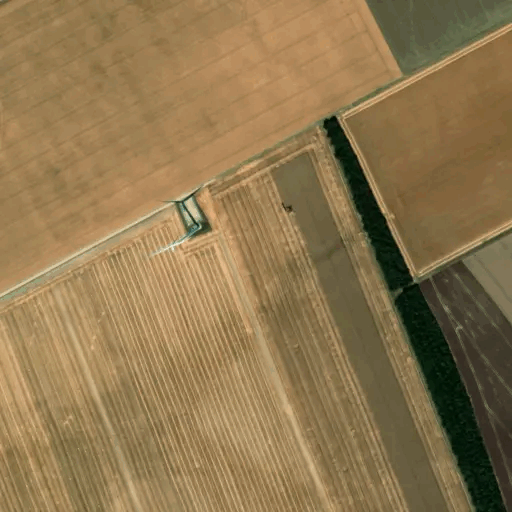wt: (146, 181, 223, 267)
